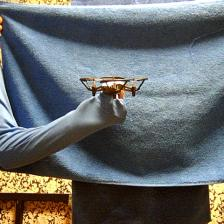drone: (79, 75, 148, 99)
